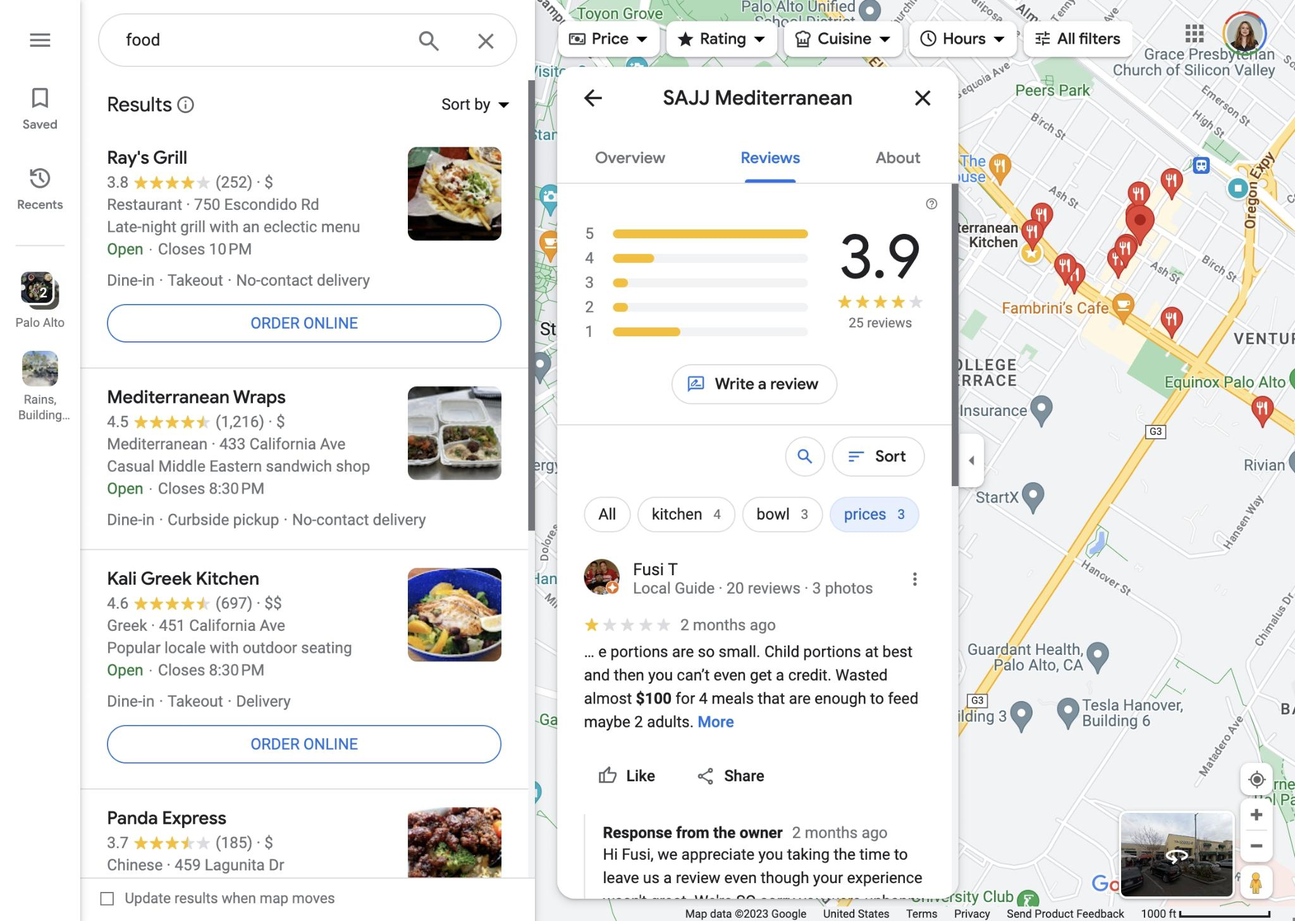webelement: (0, 0, 1294, 920), (79, 79, 534, 876), (556, 66, 957, 898), (556, 558, 950, 921), (79, 128, 527, 366), (79, 549, 527, 787), (79, 368, 527, 548), (0, 0, 79, 920), (79, 789, 527, 921), (583, 642, 922, 731), (541, 14, 1144, 62), (97, 13, 516, 66), (556, 128, 957, 181), (106, 295, 500, 348), (106, 717, 500, 770), (583, 487, 924, 540), (1118, 810, 1233, 898), (632, 560, 897, 597), (671, 357, 837, 410), (125, 26, 396, 52), (0, 341, 79, 425), (100, 884, 334, 912), (685, 906, 1140, 920), (783, 14, 901, 62), (576, 128, 682, 181), (0, 263, 79, 332), (583, 221, 808, 245), (583, 245, 808, 269), (583, 270, 808, 294), (583, 295, 808, 319), (583, 319, 808, 343), (665, 14, 776, 62), (1023, 14, 1133, 62), (636, 487, 734, 540), (909, 14, 1016, 62), (556, 343, 950, 356), (556, 410, 950, 423), (722, 128, 817, 181), (830, 429, 924, 482), (106, 457, 368, 476), (0, 75, 79, 137), (0, 155, 79, 217), (557, 14, 658, 62), (828, 487, 918, 540), (662, 85, 851, 110), (427, 79, 520, 128), (106, 218, 359, 236), (106, 639, 351, 657), (741, 487, 822, 540), (857, 128, 937, 181), (106, 878, 322, 897), (79, 260, 527, 269), (79, 499, 527, 508), (79, 681, 527, 690), (681, 756, 781, 796), (583, 756, 672, 796), (106, 410, 263, 432), (602, 823, 781, 842), (106, 170, 252, 192), (106, 592, 252, 614), (106, 831, 252, 853), (0, 17, 79, 57), (455, 14, 515, 65), (402, 13, 455, 66), (565, 70, 618, 123), (895, 70, 948, 123), (777, 429, 830, 482), (291, 510, 425, 529), (583, 487, 630, 540), (236, 271, 369, 289), (143, 479, 264, 498), (218, 435, 344, 453), (158, 617, 284, 635), (715, 372, 818, 394), (193, 195, 318, 213), (79, 291, 527, 296), (79, 712, 527, 717), (143, 661, 264, 679), (166, 510, 278, 529), (1089, 870, 1162, 899), (174, 856, 283, 875), (697, 694, 733, 748), (162, 82, 206, 126), (143, 240, 250, 258), (786, 823, 887, 842), (143, 900, 243, 919), (835, 292, 924, 313), (679, 615, 774, 634), (106, 435, 206, 453), (1140, 907, 1270, 920), (1006, 906, 1123, 920), (684, 907, 806, 920), (583, 558, 618, 600), (1057, 27, 1120, 49), (957, 434, 983, 487), (106, 195, 181, 213), (583, 616, 672, 631), (21, 350, 57, 386), (817, 27, 870, 49), (651, 503, 701, 525), (1177, 16, 1210, 49), (1227, 16, 1260, 49), (440, 93, 489, 115), (1239, 797, 1271, 830), (1239, 865, 1271, 898), (106, 856, 161, 875), (699, 27, 746, 49), (1239, 762, 1271, 794), (1239, 829, 1271, 861), (166, 271, 222, 289), (166, 692, 222, 710), (235, 692, 290, 710), (20, 271, 51, 302), (27, 278, 58, 309), (942, 27, 985, 49), (843, 503, 885, 525), (823, 906, 888, 920), (106, 510, 153, 529), (106, 271, 153, 289), (106, 692, 153, 710), (591, 27, 627, 49), (756, 503, 789, 525), (106, 617, 146, 635), (693, 712, 733, 730), (106, 479, 143, 498), (106, 900, 143, 919), (874, 445, 905, 467), (106, 240, 143, 258), (106, 661, 143, 679), (583, 221, 607, 245), (583, 245, 607, 269), (583, 270, 607, 294), (583, 295, 607, 319), (583, 319, 607, 343), (959, 448, 983, 472), (904, 568, 924, 594), (724, 765, 764, 778), (953, 906, 988, 920), (24, 282, 47, 302), (1140, 907, 1175, 920), (905, 906, 936, 920), (566, 28, 586, 48), (674, 28, 694, 48), (917, 28, 937, 48), (1032, 28, 1052, 48), (793, 28, 812, 48), (174, 94, 194, 113), (263, 412, 283, 431), (252, 833, 272, 852), (686, 373, 705, 393), (598, 503, 615, 525), (626, 765, 654, 778), (597, 766, 616, 785), (695, 766, 714, 785), (252, 173, 272, 191), (263, 594, 281, 612), (654, 616, 670, 631), (924, 196, 937, 214), (583, 616, 598, 631), (601, 616, 616, 631), (619, 616, 634, 631), (637, 616, 652, 631), (275, 412, 284, 431), (263, 833, 272, 852), (263, 173, 272, 191), (712, 505, 720, 523), (896, 505, 904, 523), (801, 505, 808, 523)
